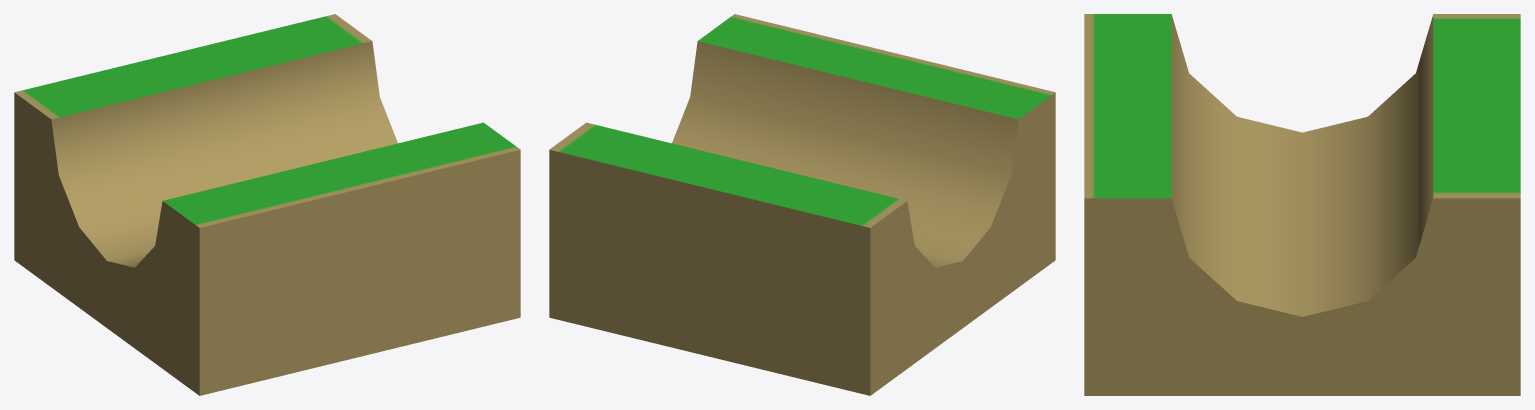
Rendered from Straight.fbx.
3 views of the same model, side by side, from view 1: azimuth 30°, elevation 25°; view 2: azimuth 150°, elevation 25°; view 3: azimuth 270°, elevation 25° (orthographic). The views are drawn at different scales.
Visible parts, largest first — view 1: Straight; view 2: Straight; view 3: Straight.
Boxes of the visible parts, x1,y1,x2,y2 form: Straight: [14, 14, 520, 395]; Straight: [549, 14, 1055, 395]; Straight: [1084, 14, 1520, 395].
Bounding box in the file's own units: 200 × 100 × 200.
